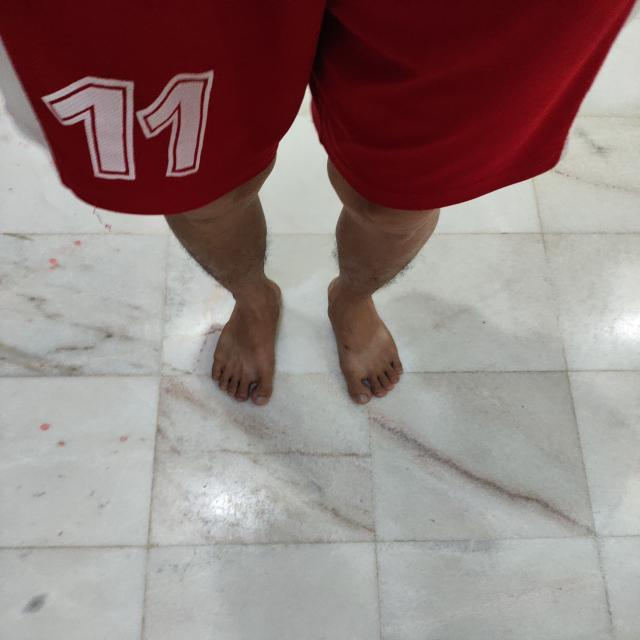No_Shoes: (323, 263, 400, 430), (218, 256, 288, 407)
